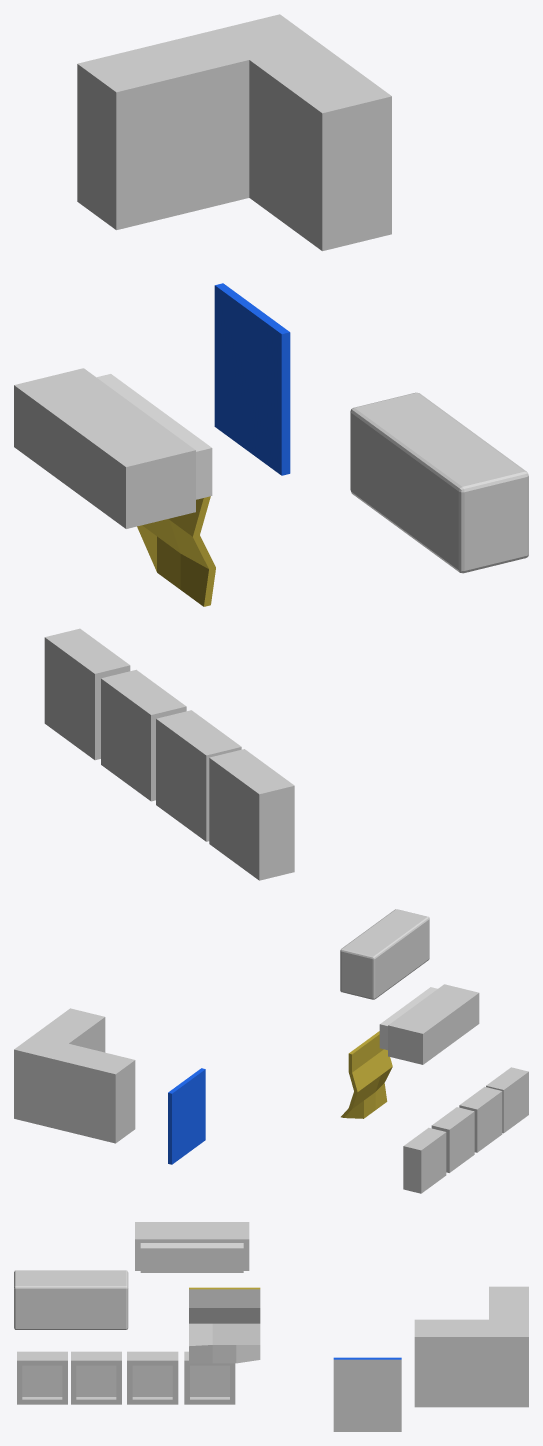
Rendered from chinese signs1.fbx.
The picture shows the model from 3 angles, top to bottom: view 1: azimuth 30°, elevation 25°; view 2: azimuth 150°, elevation 25°; view 3: azimuth 270°, elevation 25°; orthographic projection. The views are drawn at different scales.
Visible parts, largest first — view 1: Cube.134, Cube.122, Cube.123, Cube.137, Cube.125, Cube.129, Cube.135, Cube.128, Cube.130; view 2: Cube.134, Cube.122, Cube.123, Cube.137, Cube.130, Cube.129, Cube.135, Cube.128, Cube.125; view 3: Cube.134, Cube.122, Cube.123, Cube.130, Cube.137, Cube.135, Cube.128, Cube.125, Cube.129.
Part boxes in pixels (<box>): Cube.134: <box>77,14,391,251</box>; Cube.122: <box>350,392,528,573</box>; Cube.123: <box>14,368,212,528</box>; Cube.137: <box>214,283,290,475</box>; Cube.125: <box>209,749,294,880</box>; Cube.129: <box>44,628,130,760</box>; Cube.135: <box>101,669,186,801</box>; Cube.128: <box>156,710,241,841</box>; Cube.130: <box>137,496,215,606</box>; Cube.134: <box>14,1008,135,1143</box>; Cube.122: <box>340,909,429,999</box>; Cube.123: <box>379,984,479,1064</box>; Cube.137: <box>168,1068,205,1164</box>; Cube.130: <box>341,1031,392,1118</box>; Cube.129: <box>403,1127,446,1193</box>; Cube.135: <box>431,1107,474,1172</box>; Cube.128: <box>459,1086,502,1152</box>; Cube.125: <box>486,1067,528,1133</box>; Cube.134: <box>414,1286,528,1407</box>; Cube.122: <box>14,1270,128,1329</box>; Cube.123: <box>135,1222,249,1272</box>; Cube.130: <box>189,1287,260,1363</box>; Cube.137: <box>333,1357,401,1431</box>; Cube.135: <box>127,1351,178,1404</box>; Cube.128: <box>71,1351,121,1404</box>; Cube.125: <box>17,1351,67,1404</box>; Cube.129: <box>184,1351,235,1404</box>.
Size of the model in its own units: 1472 by 965 by 2385.
